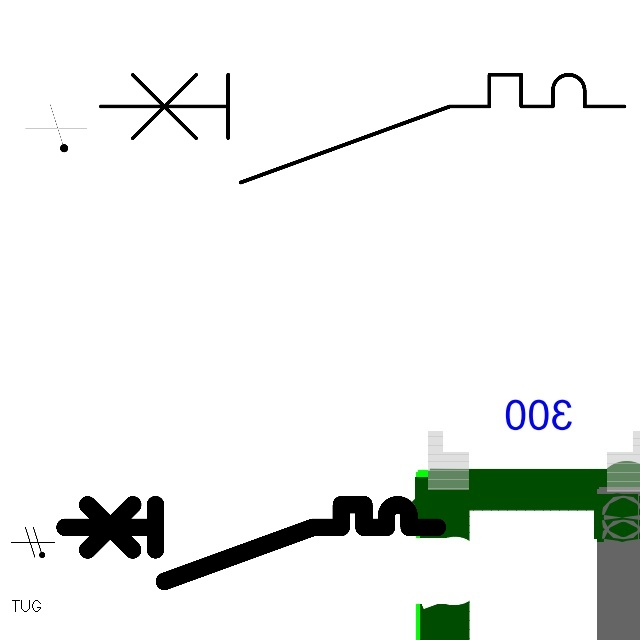interruptor_termomagnetico: (87, 61, 637, 195), (55, 495, 447, 591)
